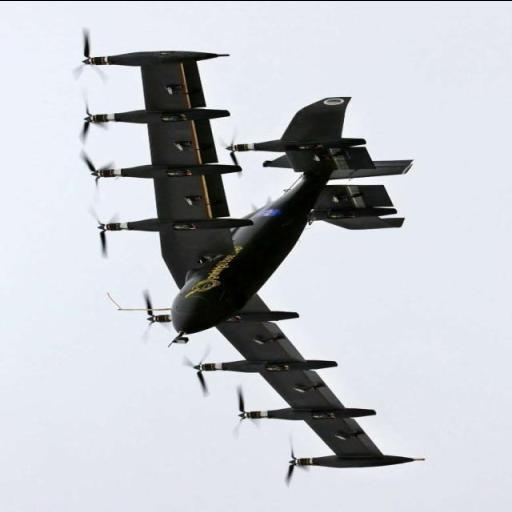uav: (64, 25, 462, 484)
